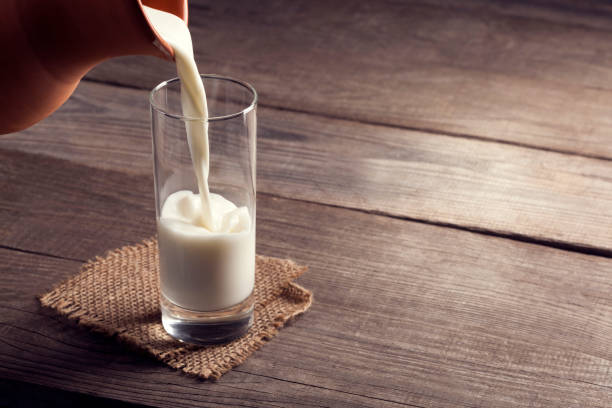glass of milk: (142, 90, 271, 320)
